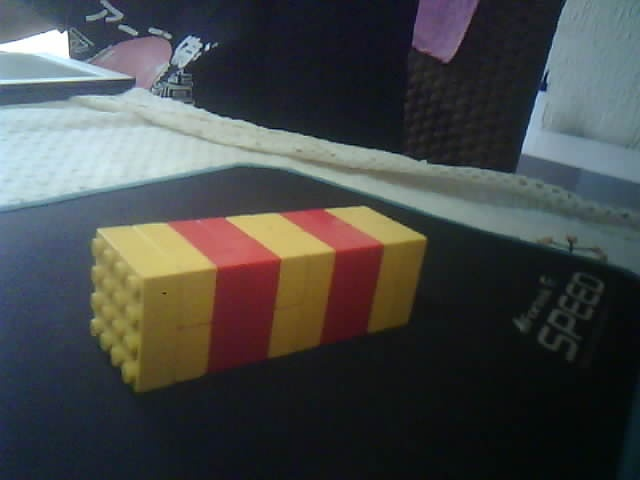lego: (88, 204, 428, 394)
